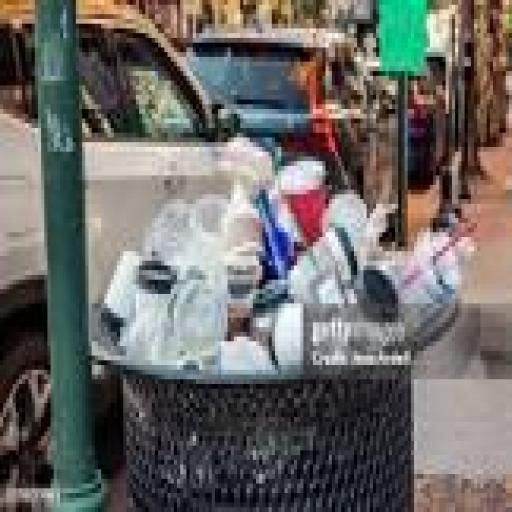poubelle_pleine: (86, 156, 489, 512)
